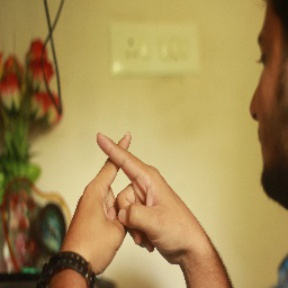X: (68, 121, 173, 217)
